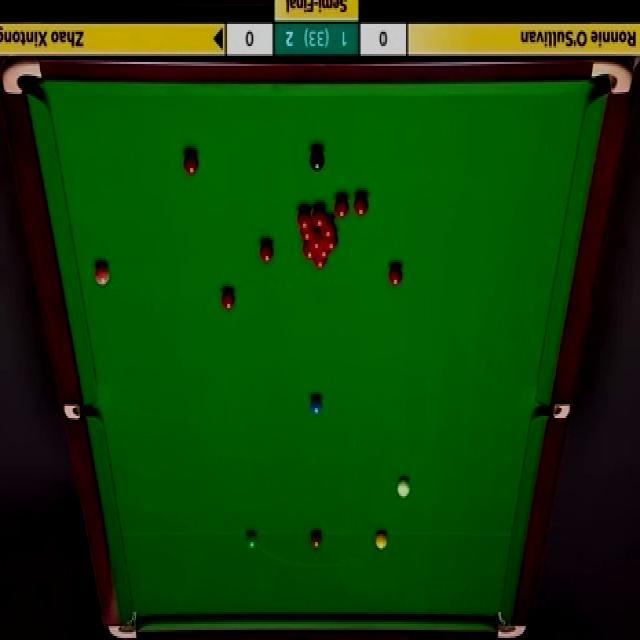black-ball: (309, 147, 325, 173)
blue-ball: (310, 398, 323, 416)
brown-ball: (310, 531, 323, 548)
green-ball: (244, 528, 258, 552)
pink-ball: (94, 264, 111, 287)
red-ball: (259, 238, 275, 264), (354, 193, 368, 220), (388, 262, 402, 287), (336, 193, 350, 218), (184, 152, 199, 175), (311, 207, 326, 228), (308, 229, 322, 251), (322, 217, 335, 240), (222, 288, 235, 311), (298, 208, 312, 228), (323, 233, 339, 250), (303, 241, 317, 260), (299, 224, 314, 240), (316, 248, 332, 260), (312, 259, 327, 271)
white-ball: (398, 478, 410, 498)
yellow-ball: (374, 530, 388, 551)
